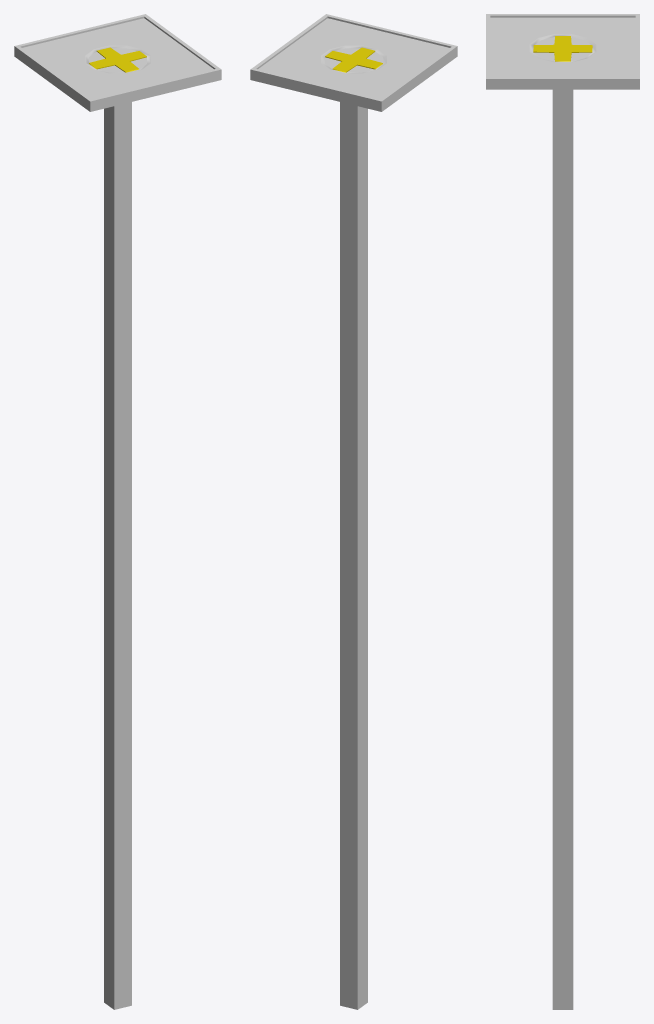
The model's file is Platform With Column.fbx.
3 views of the same model, side by side, from view 1: azimuth 30°, elevation 25°; view 2: azimuth 150°, elevation 25°; view 3: azimuth 270°, elevation 25° (orthographic).
Parts seen in each view (by area): view 1: Platform With Column; view 2: Platform With Column; view 3: Platform With Column.
Boxes of the visible parts, <box> form: Platform With Column: <box>14,14,221,1009</box>; Platform With Column: <box>250,14,457,1009</box>; Platform With Column: <box>486,14,639,1009</box>.
Size of the model in its own units: 2079 by 14312 by 2079.
